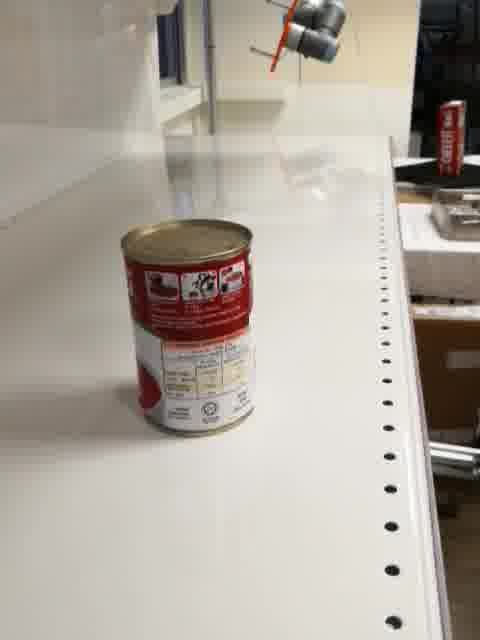tomatosoup: (118, 216, 257, 439)
